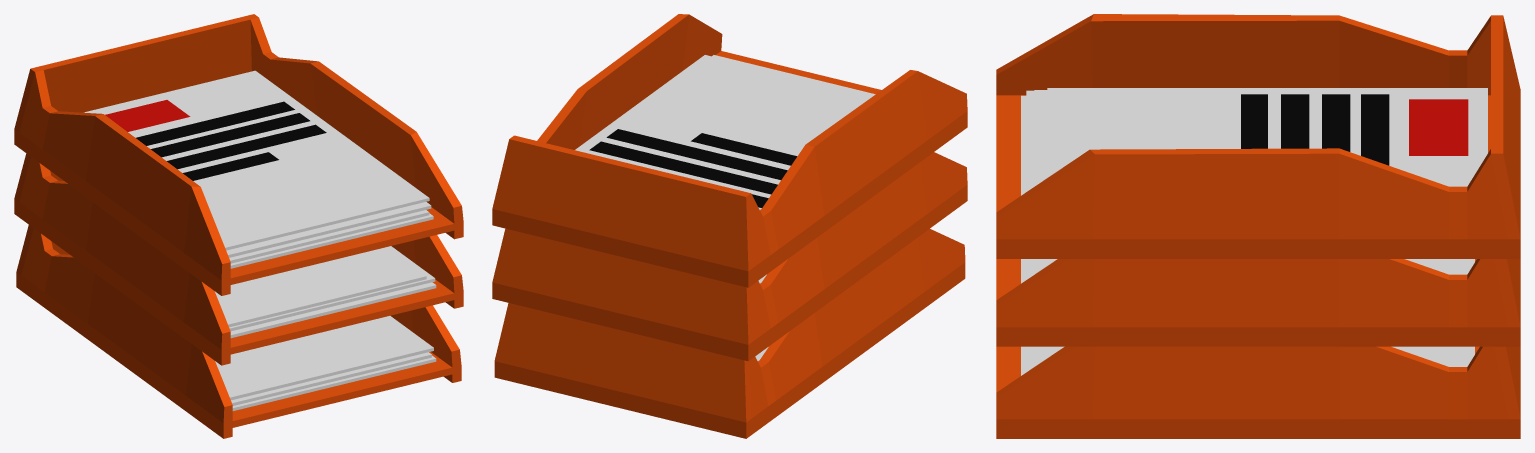
Rendered from P_Files.fbx.
The picture shows the model from 3 angles, left to right: view 1: azimuth 30°, elevation 25°; view 2: azimuth 150°, elevation 25°; view 3: azimuth 270°, elevation 25°; orthographic projection. The views are drawn at different scales.
Parts seen in each view (by area): view 1: P_Files; view 2: P_Files; view 3: P_Files.
Part boxes in pixels (x1=…): P_Files: x1=14, y1=14, x2=463, y2=438; P_Files: x1=492, y1=14, x2=967, y2=438; P_Files: x1=996, y1=14, x2=1520, y2=438.
Bounding box in the file's own units: 158 × 234 × 139.
